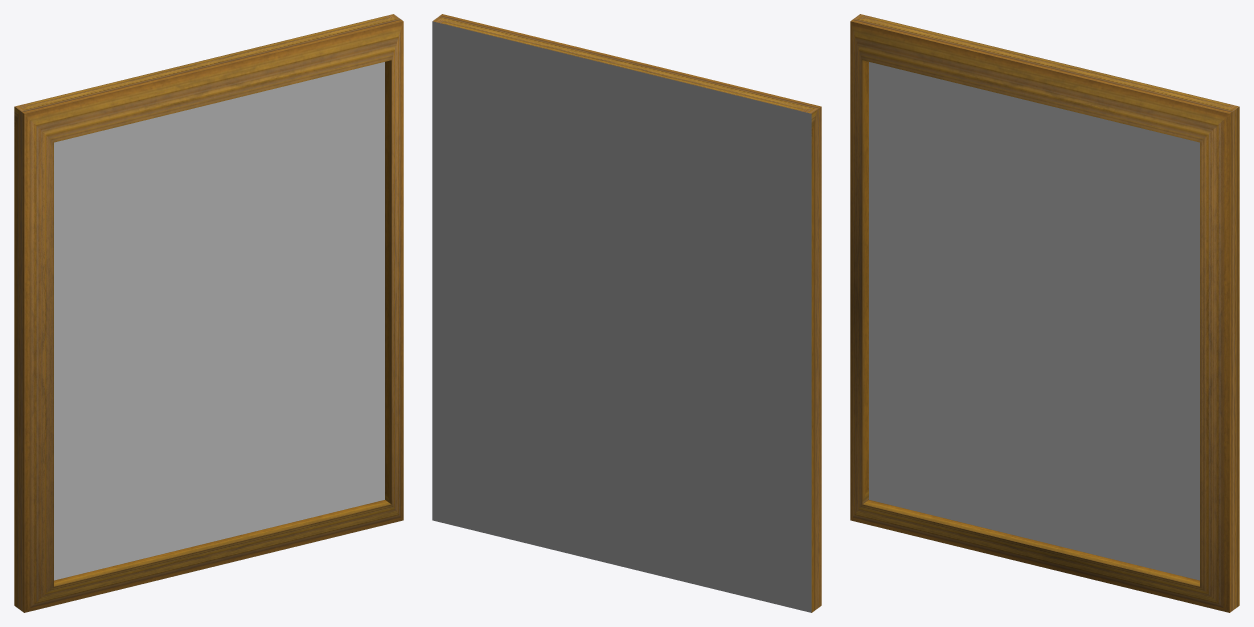
File: Portrait1_switch.fbx
3 renders of one model, left to right at view 1: azimuth 30°, elevation 25°; view 2: azimuth 150°, elevation 25°; view 3: azimuth 330°, elevation 25°, orthographic.
Parts seen in each view (by area): view 1: pCube3, pCube4; view 2: pCube4; view 3: pCube3, pCube4.
Boxes of the visible parts, x1,y1,x2,y2 form: pCube3: (54,62,384,580); pCube4: (14,14,403,612); pCube4: (432,14,821,612); pCube3: (869,62,1199,580); pCube4: (850,14,1239,612).
Size of the model in its own units: 1.09 by 1.37 by 0.0934.
